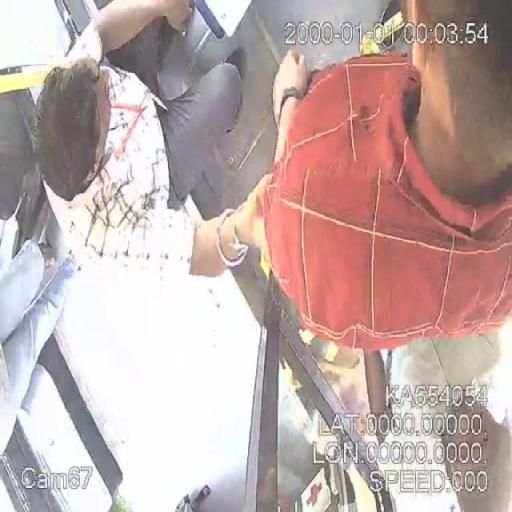persona: (257, 3, 511, 358), (38, 0, 270, 286), (0, 232, 69, 476)
